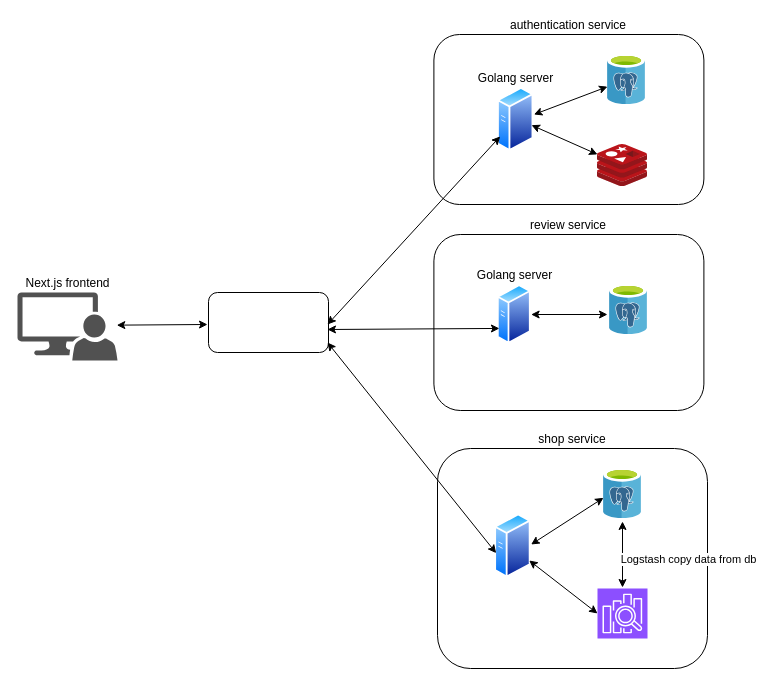
Some shapes in this 773 by 686 pixel diagram are drawn without their labels. The centre of each missing label's shape, as x and y in pixels:
"Elastic search engine" goes at point (622, 613).
"NGINX" goes at point (268, 322).
"Python server" goes at point (512, 545).
